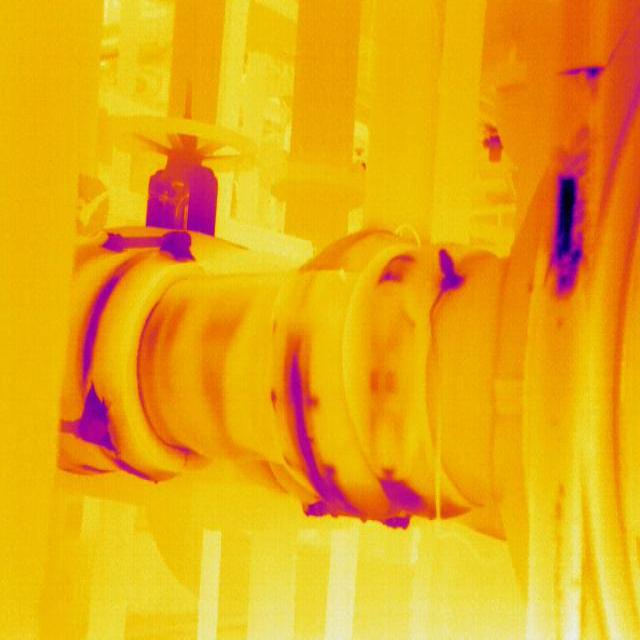leakage: (283, 339, 338, 510), (192, 306, 242, 442), (139, 295, 187, 430), (550, 163, 589, 299), (74, 277, 126, 375), (372, 462, 442, 530), (96, 227, 210, 263), (365, 357, 407, 448), (70, 384, 115, 454), (372, 242, 424, 291), (433, 244, 468, 294)
